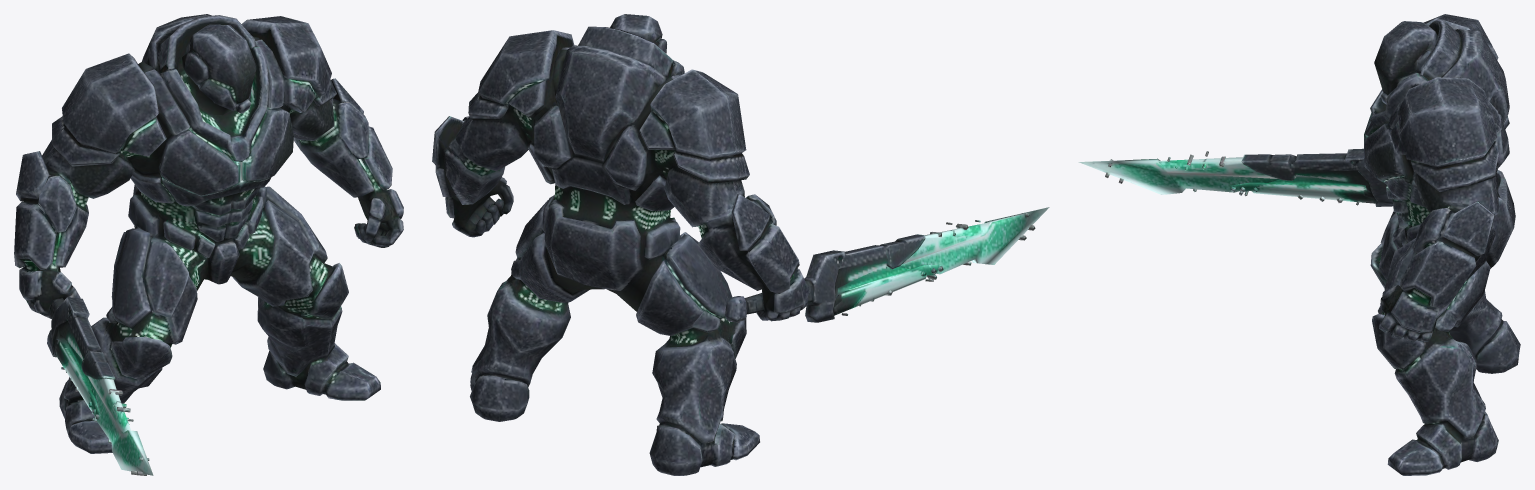
File: legion_tripod.glb
3 renders of one model, left to right at view 1: azimuth 30°, elevation 25°; view 2: azimuth 150°, elevation 25°; view 3: azimuth 270°, elevation 25°, orthographic. The views are drawn at different scales.
Visible parts, largest first — view 1: tripo_node_a218a71c-6985-451e-a519-9f5c35442c45; view 2: tripo_node_a218a71c-6985-451e-a519-9f5c35442c45; view 3: tripo_node_a218a71c-6985-451e-a519-9f5c35442c45.
Part boxes in pixels (bbox=[...]): tripo_node_a218a71c-6985-451e-a519-9f5c35442c45: bbox=[14, 14, 403, 475]; tripo_node_a218a71c-6985-451e-a519-9f5c35442c45: bbox=[432, 14, 1049, 475]; tripo_node_a218a71c-6985-451e-a519-9f5c35442c45: bbox=[1078, 14, 1520, 475].
Size of the model in its own units: 0.9995 by 0.9077 by 0.9536.
Materials: 1 (1 with a texture image).
